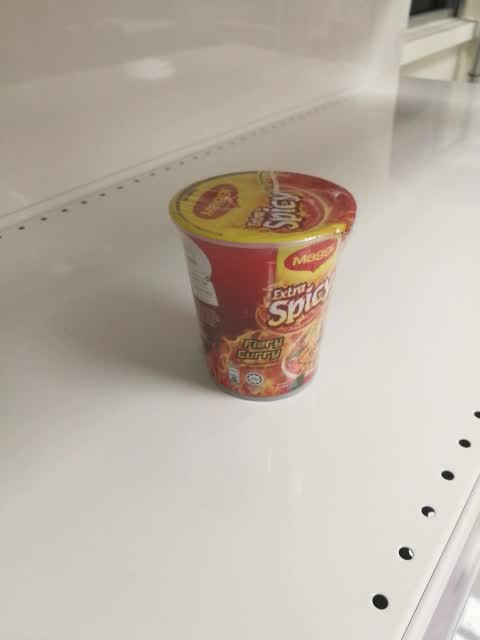maggi: (167, 169, 358, 403)
